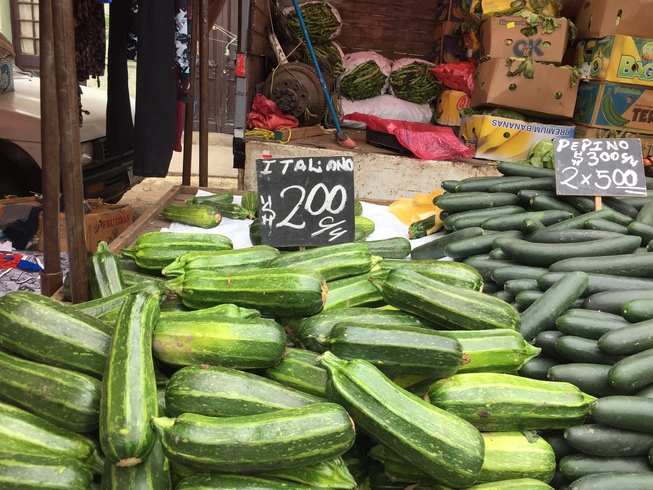precio: (253, 155, 360, 249), (549, 133, 649, 202)
